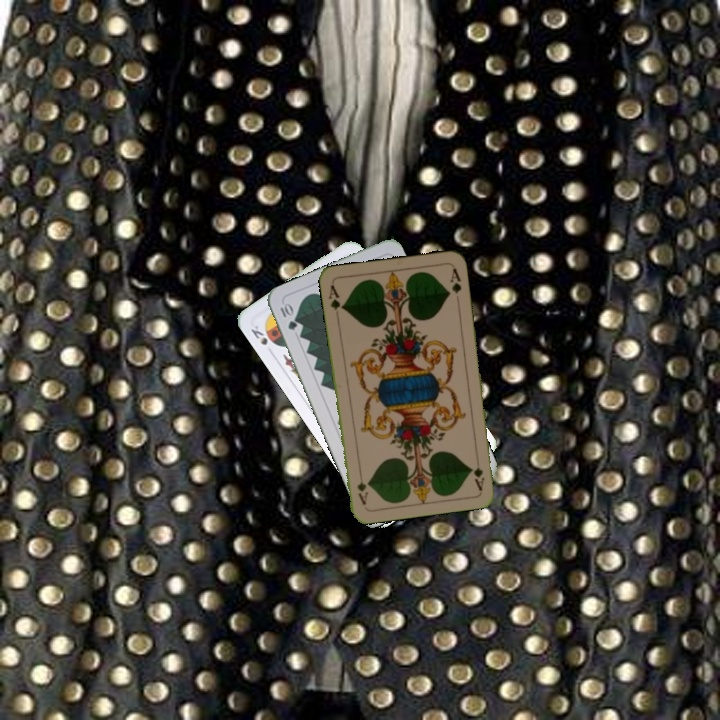G10: (276, 299, 300, 333)
GA: (324, 281, 346, 312), (470, 452, 487, 492)
SK: (247, 321, 279, 348)
